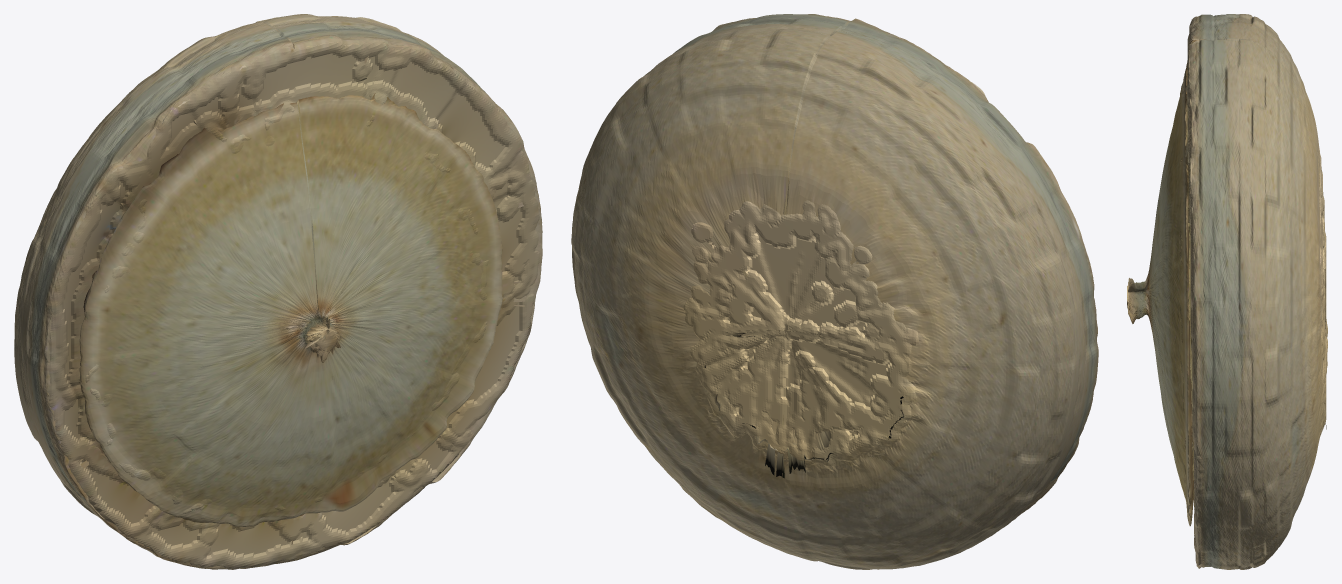
The model's file is volume2_mesh.glb.
3 renders of one model, left to right at view 1: azimuth 30°, elevation 25°; view 2: azimuth 150°, elevation 25°; view 3: azimuth 270°, elevation 25°, orthographic. The views are drawn at different scales.
Parts seen in each view (by area): view 1: ipn, fill; view 2: ipn, fill; view 3: ipn, fill.
Boxes of the visible parts, x1,y1,x2,y2 form: ipn: (14, 14, 542, 569); fill: (42, 35, 539, 569); ipn: (571, 14, 1098, 569); fill: (683, 14, 1097, 521); ipn: (1127, 14, 1326, 569); fill: (1127, 17, 1327, 564).
Bounding box in the file's own units: 2 × 2 × 0.7217.
2 materials, 1 textured.
